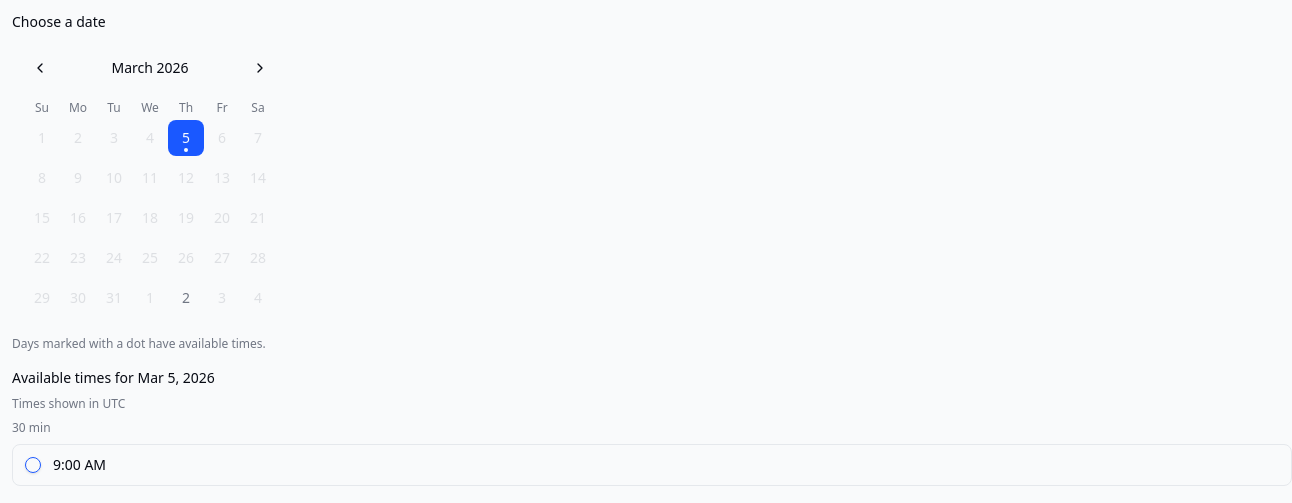
Test: SlotPicker › navigating to the next month reaches a selectable day there
Expected: the text "March 2026" is shown, [111,58,188,78]
Click the button named "Go to the Next Month" at (260, 68), box [244,52,276,84]
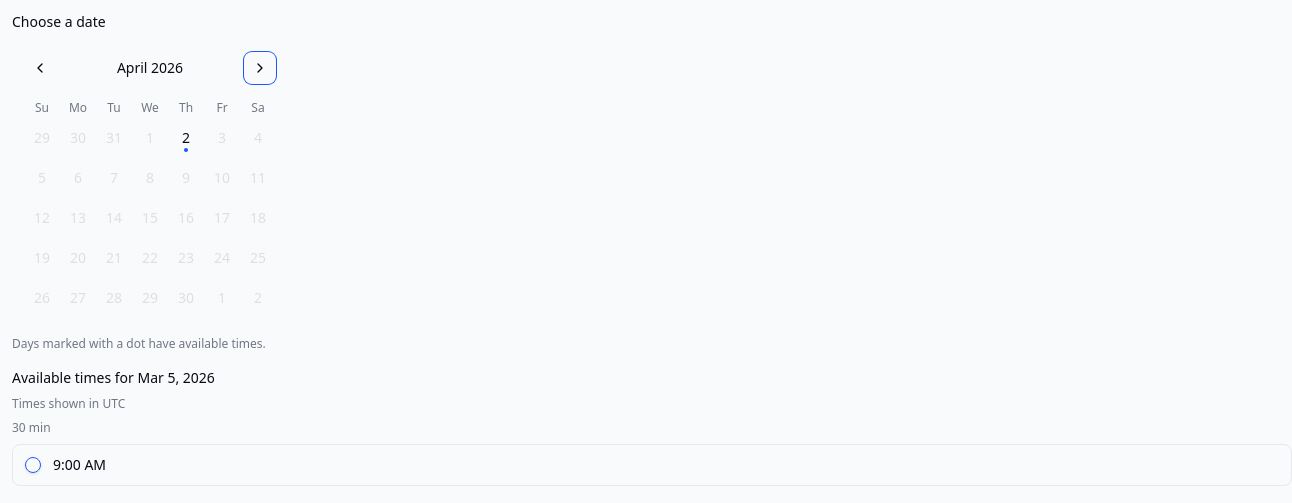
Now the text "April 2026" is shown, box [117,58,183,78]
Click the button named "April 2nd, 2026" at (186, 138), box [168,120,204,156]
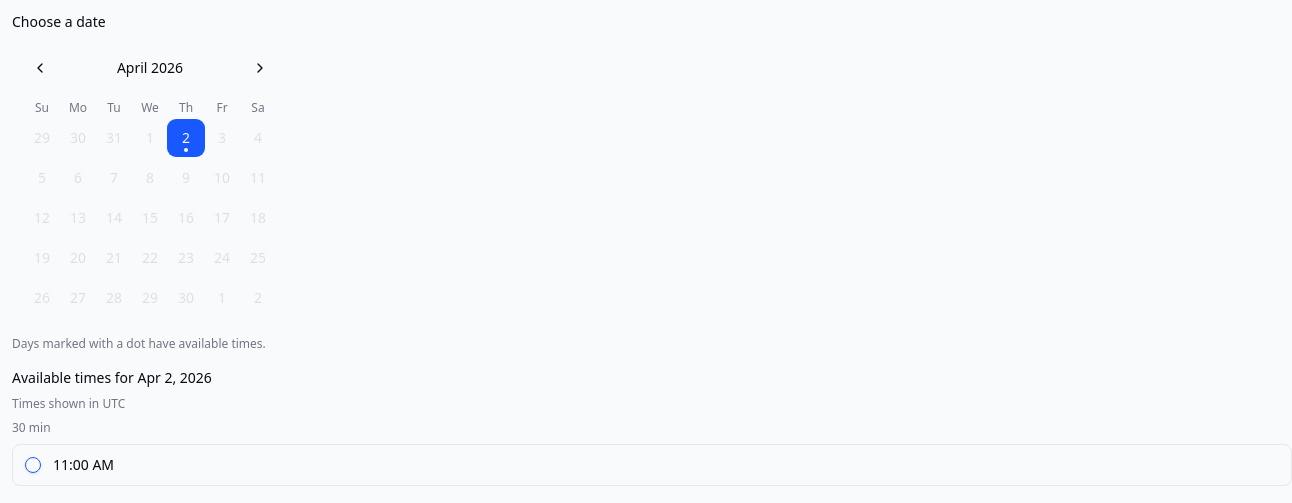
Now the text "Available times for Apr 2, 2026" is shown, box [12,368,212,387]
